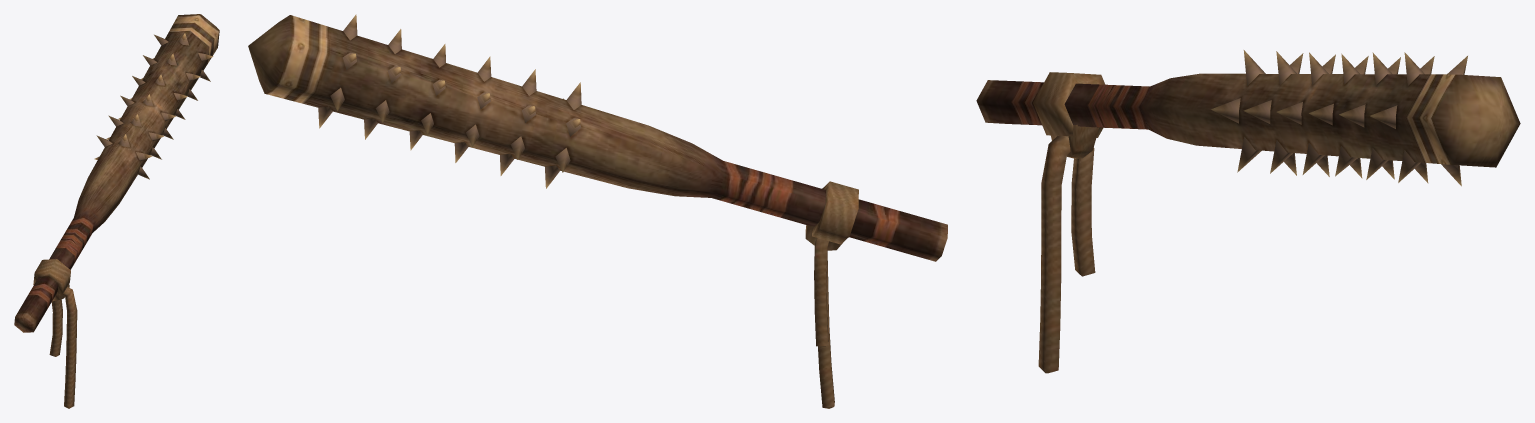
File: weapon-base.glb
3 views of the same model, side by side, from view 1: azimuth 30°, elevation 25°; view 2: azimuth 150°, elevation 25°; view 3: azimuth 270°, elevation 25° (orthographic). The views are drawn at different scales.
Size of the model in its own units: 4.2 by 3.36 by 3.15.
1 material, 1 textured.
